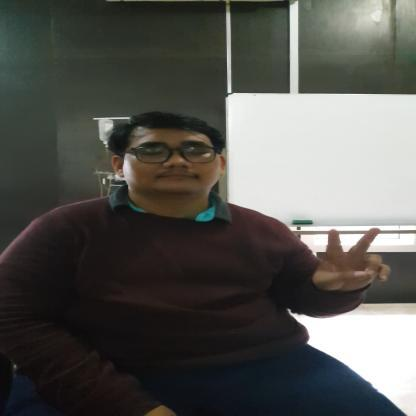V: (311, 226, 393, 292)
